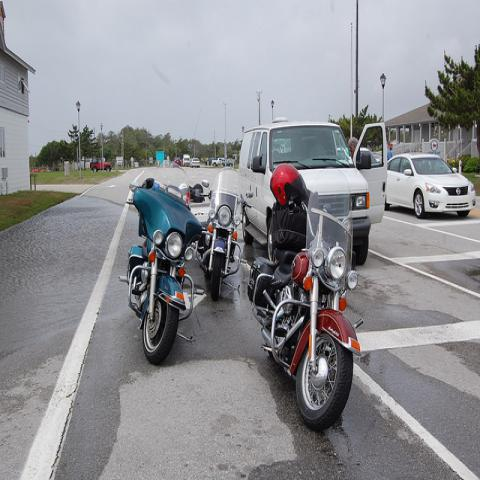car: (237, 118, 388, 268), (387, 154, 475, 218), (90, 158, 112, 172), (190, 157, 200, 168), (212, 157, 222, 167), (174, 157, 181, 165), (227, 159, 233, 166)
motorcycle: (248, 166, 364, 430), (119, 158, 209, 364), (196, 165, 256, 301)
truck: (236, 111, 394, 261)
